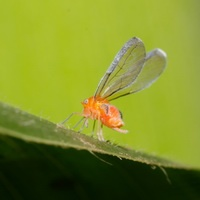insect: (62, 37, 166, 140)
